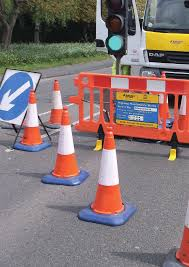cone: (75, 127, 139, 227), (40, 105, 91, 188), (12, 89, 54, 153), (38, 76, 76, 130)
